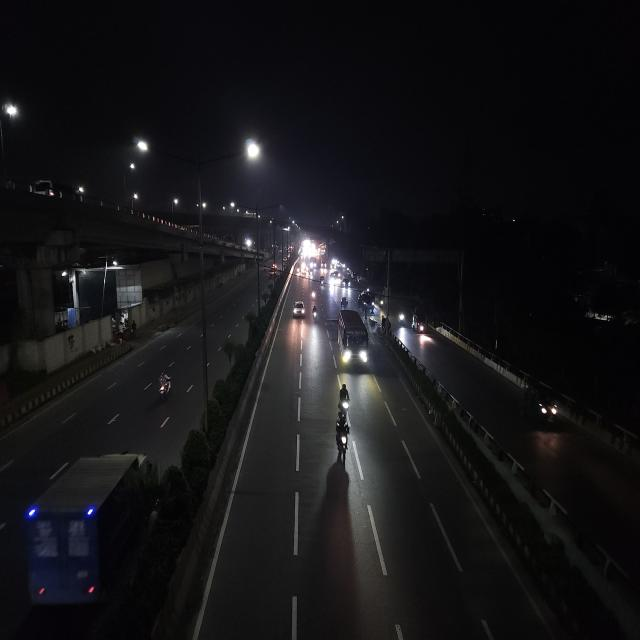bus: (336, 307, 370, 375)
car: (291, 298, 307, 321), (341, 280, 351, 292)
cng: (514, 374, 562, 426), (411, 314, 426, 336)
motorcycle: (331, 400, 356, 461), (154, 367, 174, 406), (334, 381, 354, 418), (310, 303, 320, 325), (398, 307, 407, 327), (378, 295, 384, 312), (310, 286, 316, 300)
pickup_van: (358, 290, 377, 313)
rickshaw: (339, 297, 348, 311)
truck: (22, 446, 154, 626)
